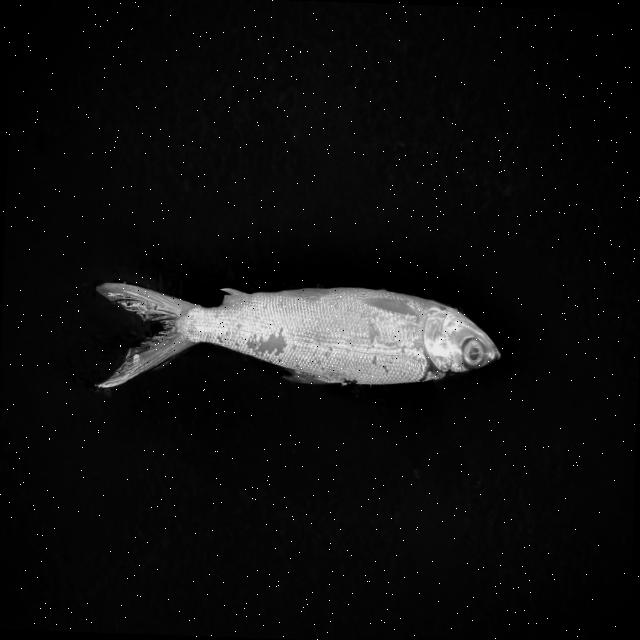440 g: (91, 276, 502, 400)
